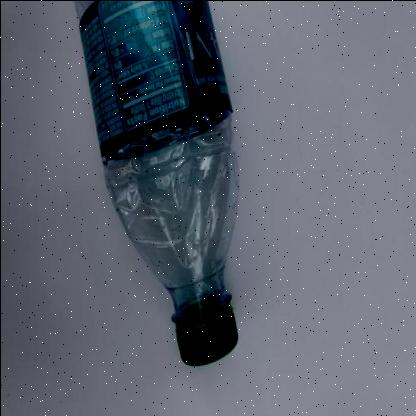Plastic Bottle: (74, 1, 236, 365)
